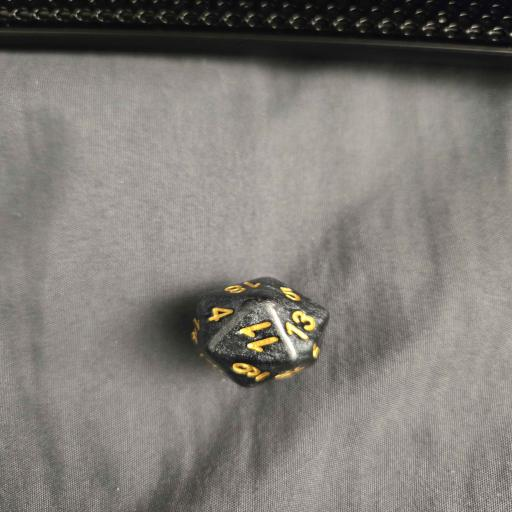twenty sided dice: (192, 277, 331, 387)
